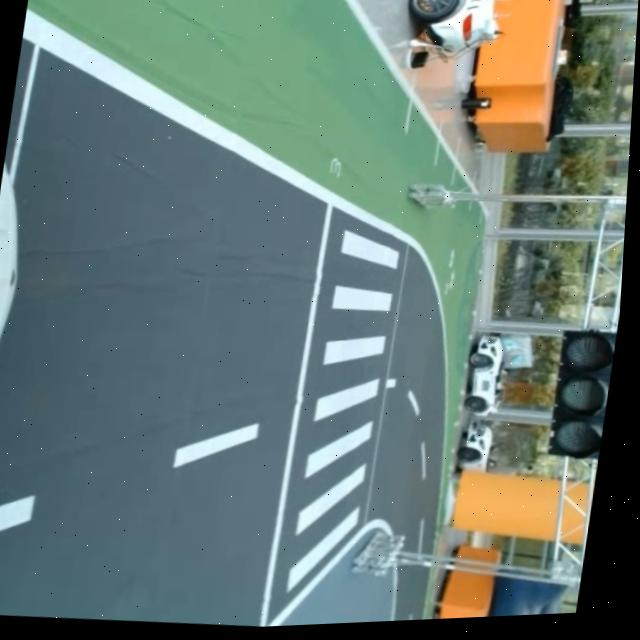traffic-light: (541, 322, 618, 464)
